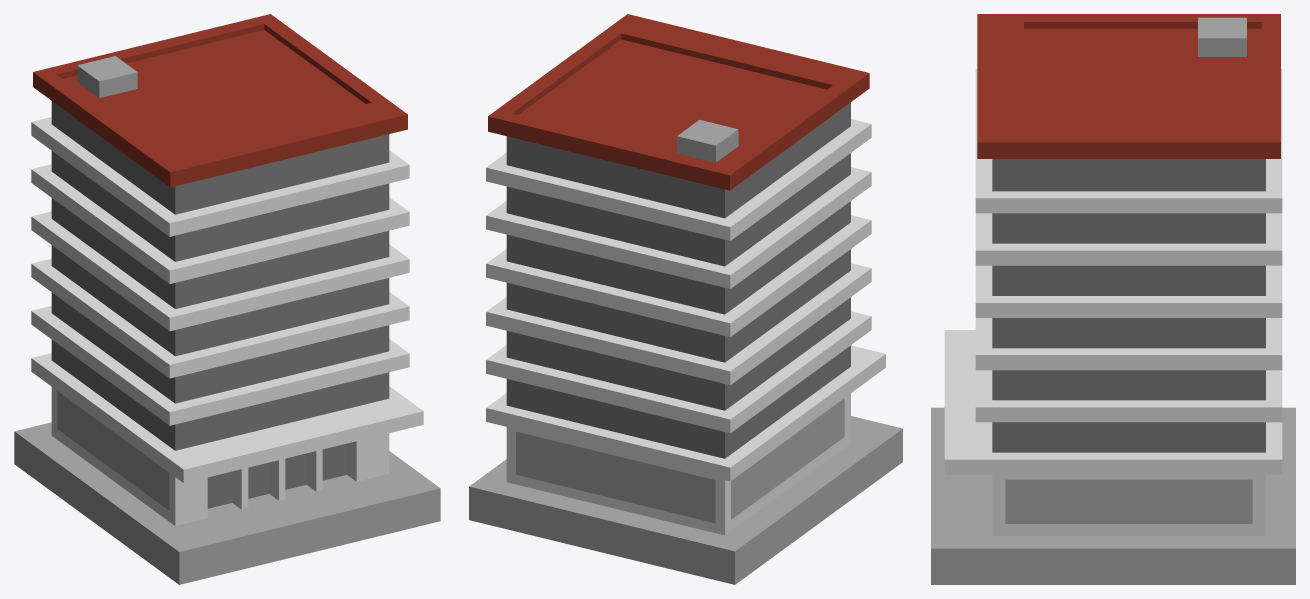
Rendered from house_08.glb.
3 views of the same model, side by side, from view 1: azimuth 30°, elevation 25°; view 2: azimuth 150°, elevation 25°; view 3: azimuth 270°, elevation 25° (orthographic). The views are drawn at different scales.
Visible parts, largest first — view 1: house_08; view 2: house_08; view 3: house_08.
Boxes of the visible parts, x1,y1,x2,y2 form: house_08: (14,14,440,584); house_08: (469,14,902,584); house_08: (931,14,1295,584).
Size of the model in its own units: 2.19 by 3.25 by 2.4.
